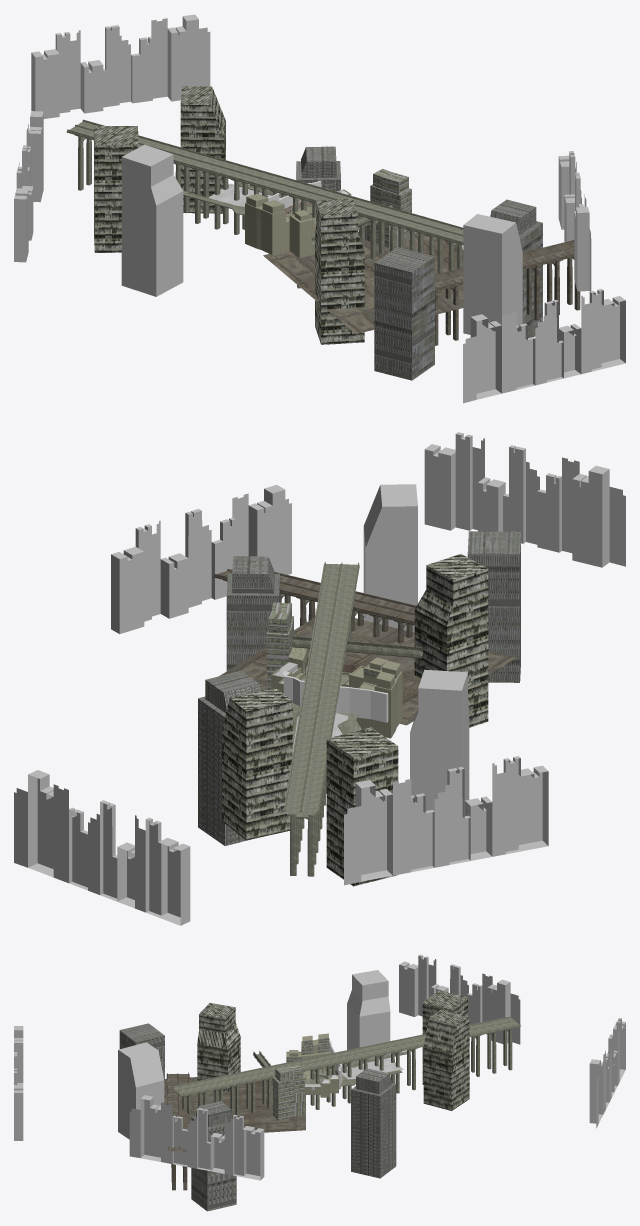
The model's file is Maps- SkatePark.fbx.
The picture shows the model from 3 angles, top to bottom: view 1: azimuth 30°, elevation 25°; view 2: azimuth 150°, elevation 25°; view 3: azimuth 270°, elevation 25°; orthographic projection. The views are drawn at different scales.
Parts seen in each view (by area): view 1: Plane.021, Cube.023, Cube.022, Cube.021, Plane.003, Plane.016, Plane.017, Cube, Cube.016; view 2: Plane.021, Cube.022, Cube.021, Cube.023, Plane.003, Plane.016, Plane.017, Cube, Cube.016, Cube.001, Plane.010; view 3: Plane.021, Cube.022, Cube.021, Plane.003, Cube.023, Plane.016, Cube.016, Plane.017, Cube, Plane.007.
Boxes of the visible parts, bbox=[...] form: Plane.021: bbox=[14, 14, 625, 403]; Cube.023: bbox=[121, 144, 522, 334]; Cube.022: bbox=[94, 86, 364, 344]; Cube.021: bbox=[296, 146, 542, 380]; Plane.003: bbox=[66, 119, 463, 273]; Plane.016: bbox=[263, 232, 463, 334]; Plane.017: bbox=[373, 240, 580, 345]; Cube: bbox=[245, 193, 315, 257]; Cube.016: bbox=[358, 168, 411, 248]; Plane.021: bbox=[14, 432, 625, 925]; Cube.022: bbox=[222, 554, 488, 886]; Cube.021: bbox=[198, 531, 520, 845]; Cube.023: bbox=[363, 484, 469, 815]; Plane.003: bbox=[283, 561, 359, 876]; Plane.016: bbox=[220, 617, 516, 725]; Plane.017: bbox=[213, 569, 416, 643]; Cube: bbox=[341, 657, 402, 738]; Cube.016: bbox=[266, 602, 307, 689]; Cube.001: bbox=[283, 675, 388, 722]; Plane.010: bbox=[292, 636, 422, 658]; Plane.021: bbox=[14, 954, 625, 1180]; Cube.022: bbox=[197, 990, 469, 1110]; Cube.021: bbox=[119, 1023, 396, 1211]; Plane.003: bbox=[173, 1016, 520, 1119]; Cube.023: bbox=[118, 970, 390, 1139]; Plane.016: bbox=[165, 1077, 305, 1132]; Cube.016: bbox=[273, 1064, 304, 1120]; Plane.017: bbox=[166, 1072, 190, 1190]; Cube: bbox=[286, 1033, 329, 1070]; Plane.007: bbox=[342, 1057, 403, 1079].
Size of the model in its own units: 574 by 198 by 866.
